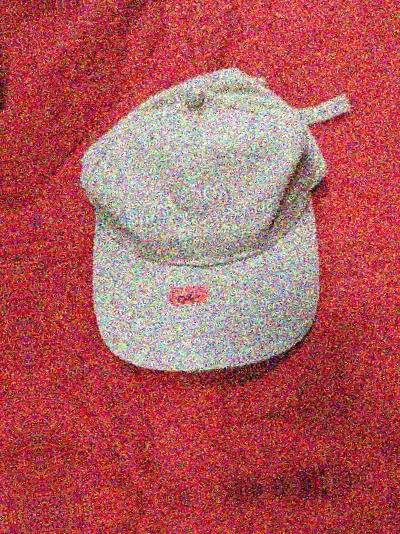Hat: (44, 49, 392, 396)
